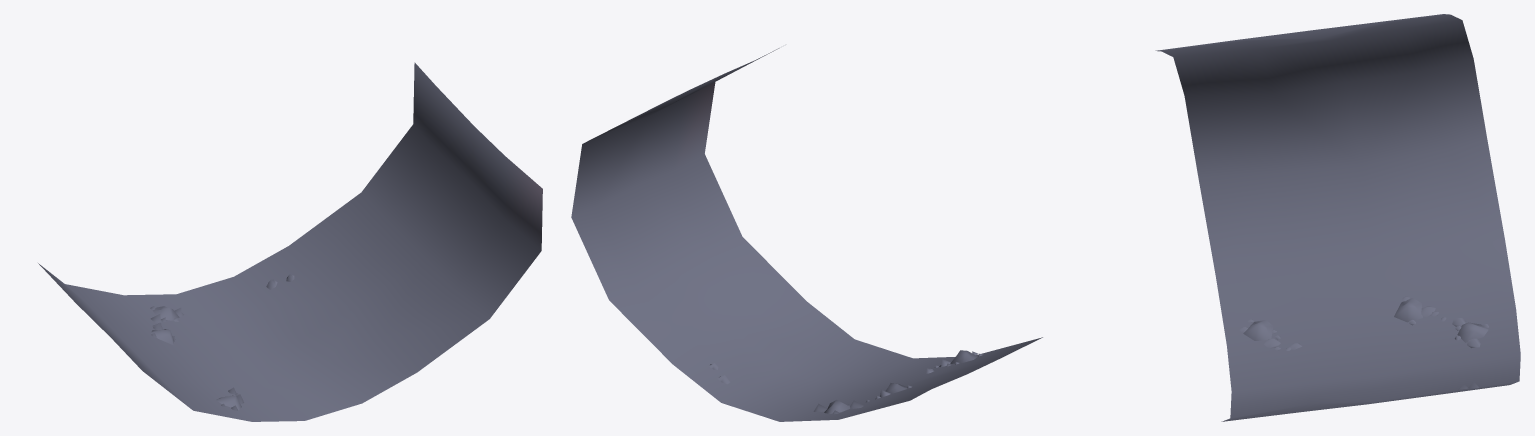
Rendered from Arctic_Luge_Tunnel_Right_15_Mid_C.glb.
3 views of the same model, side by side, from view 1: azimuth 30°, elevation 25°; view 2: azimuth 150°, elevation 25°; view 3: azimuth 270°, elevation 25° (orthographic). The views are drawn at different scales.
Parts seen in each view (by area): view 1: Arctic_Luge_Tunnel_Right_15_Mid_C; view 2: Arctic_Luge_Tunnel_Right_15_Mid_C; view 3: Arctic_Luge_Tunnel_Right_15_Mid_C.
Part boxes in pixels (x1,y1,x2,y2): Arctic_Luge_Tunnel_Right_15_Mid_C: (38, 62, 542, 421); Arctic_Luge_Tunnel_Right_15_Mid_C: (571, 48, 1042, 421); Arctic_Luge_Tunnel_Right_15_Mid_C: (1155, 14, 1520, 421).
Size of what is drawn, in the model's own units: 4.44 by 3.49 by 3.13.
